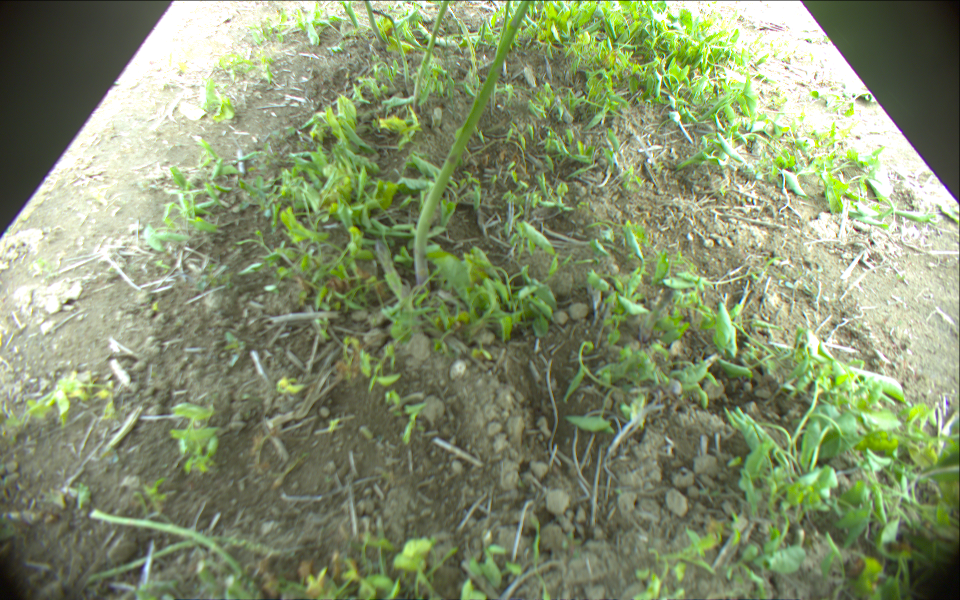aspa: (413, 1, 532, 288), (88, 509, 240, 572), (89, 535, 297, 581), (412, 1, 452, 107), (371, 9, 412, 85), (371, 235, 406, 295), (455, 16, 478, 69), (364, 1, 384, 43), (500, 1, 512, 46)
